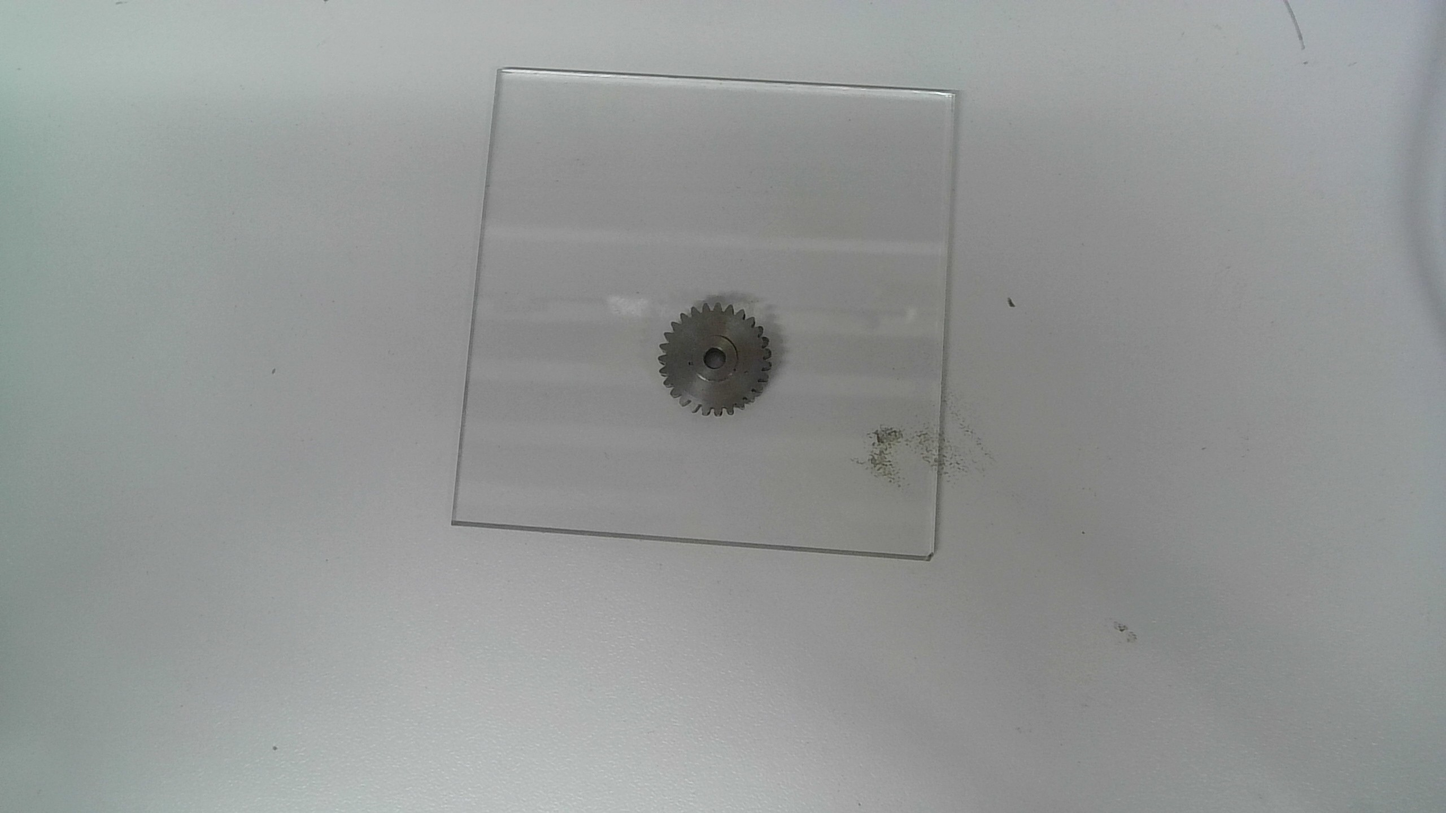gear: (655, 296, 777, 419)
